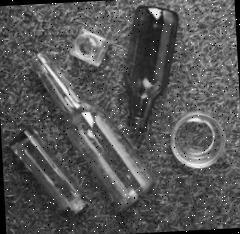glass: (3, 0, 230, 218)
